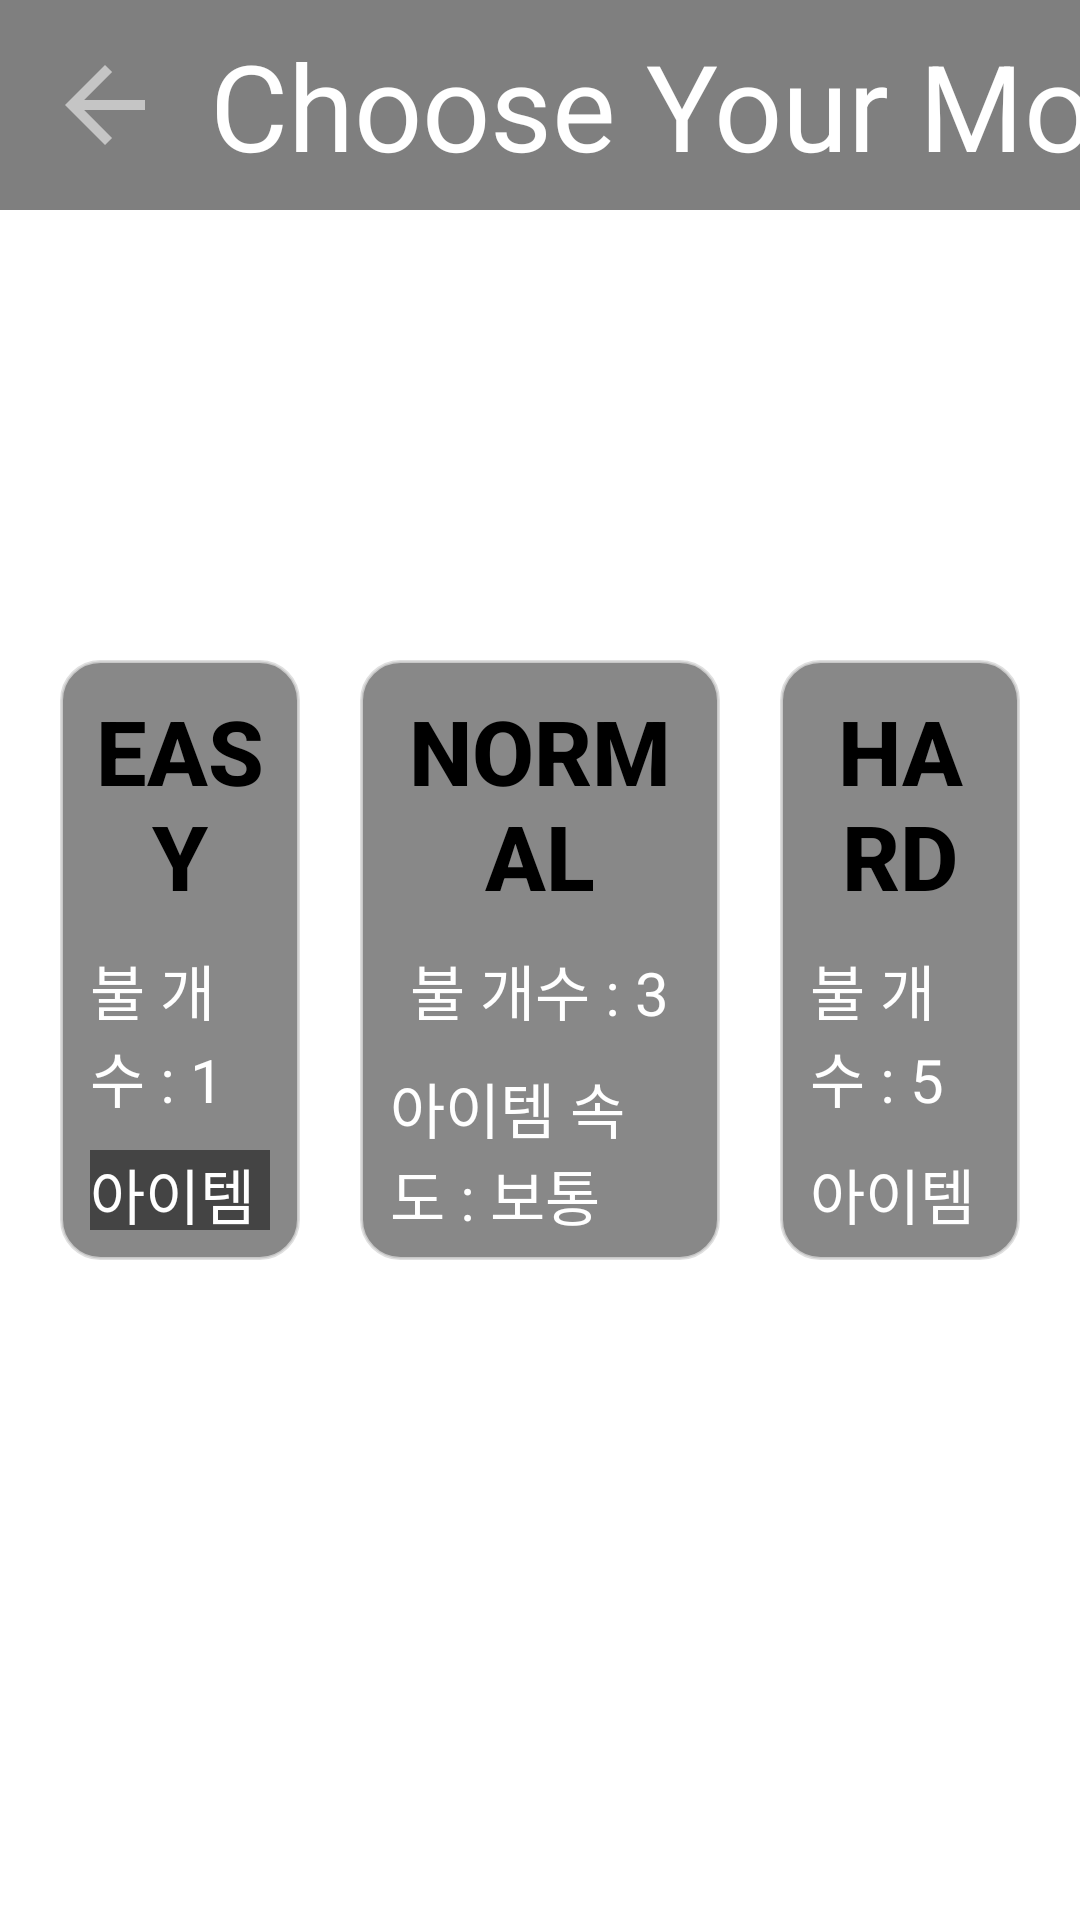

Screen size 1080w x 1920h. Icon name, then its center in pixels as (x=x, y=y):
arrow back: (x=105, y=105)
